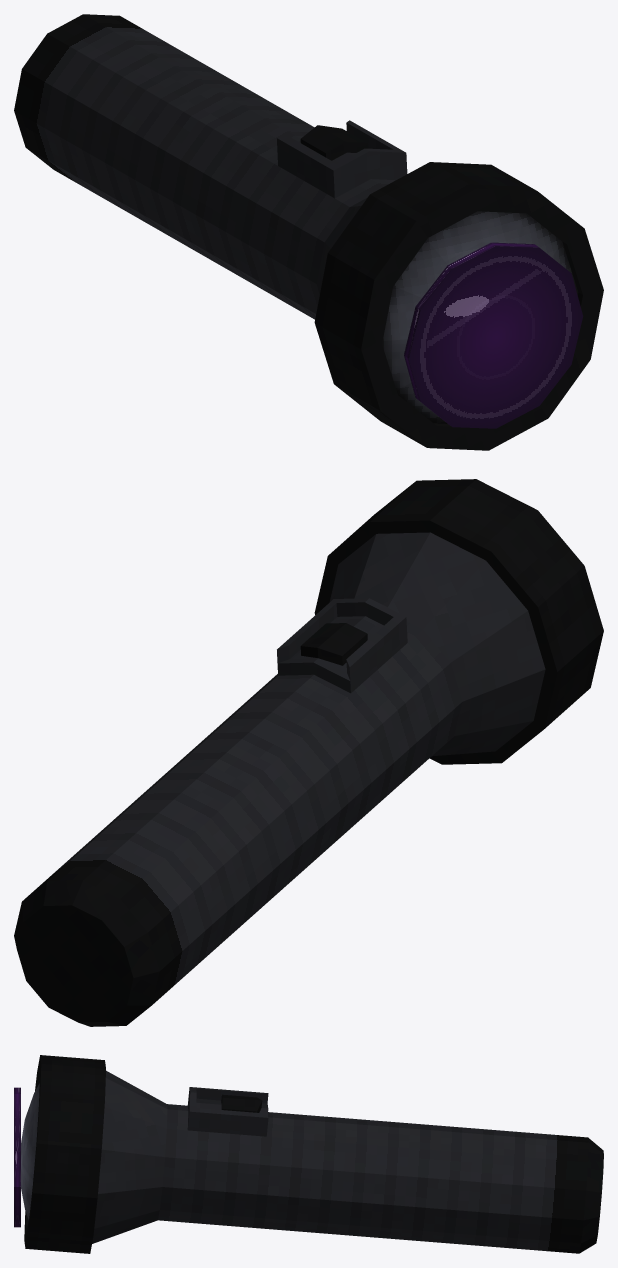
File: blender_uv_light_2.glb
The picture shows the model from 3 angles, top to bottom: view 1: azimuth 30°, elevation 25°; view 2: azimuth 150°, elevation 25°; view 3: azimuth 270°, elevation 25°; orthographic projection. The views are drawn at different scales.
Parts seen in each view (by area): view 1: blender_uv_light_2; view 2: blender_uv_light_2; view 3: blender_uv_light_2.
Boxes of the visible parts, bbox=[...] form: blender_uv_light_2: bbox=[14, 14, 603, 450]; blender_uv_light_2: bbox=[14, 479, 603, 1026]; blender_uv_light_2: bbox=[14, 1055, 603, 1253].
Bounding box in the file's own units: 0.0835 × 0.0872 × 0.2525.
Materials: 2 (2 with a texture image).
